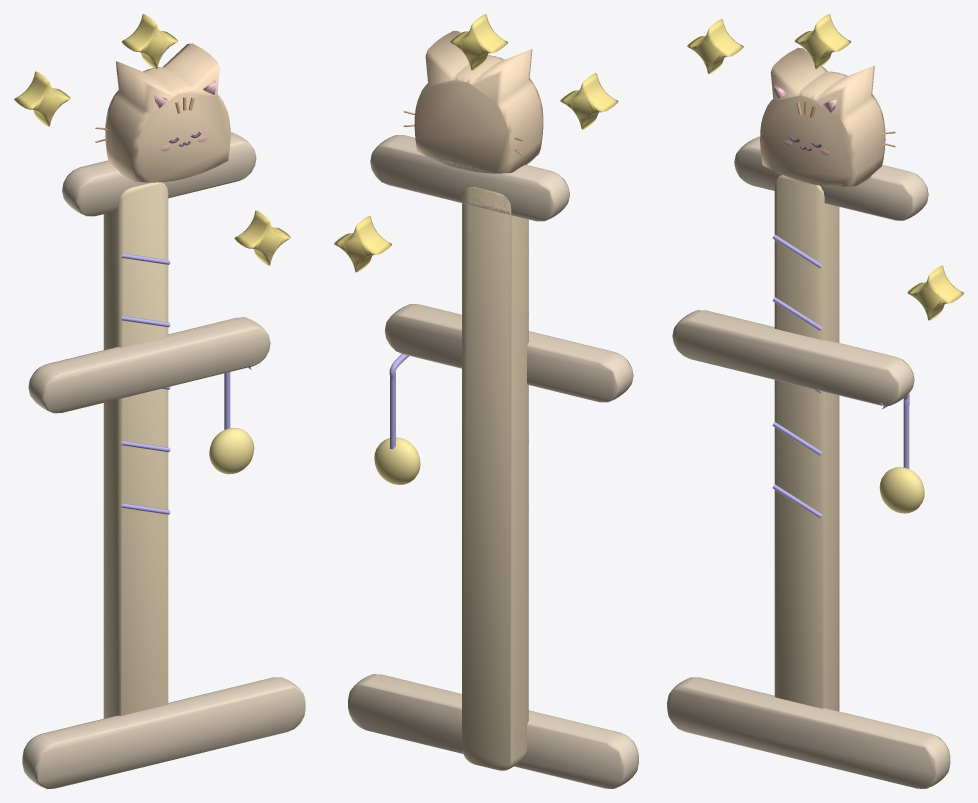
The model's file is decor_1_star.glb.
The picture shows the model from 3 angles, left to right: view 1: azimuth 30°, elevation 25°; view 2: azimuth 150°, elevation 25°; view 3: azimuth 330°, elevation 25°; orthographic projection. The views are drawn at different scales.
Visible parts, largest first — view 1: decor_1_star; view 2: decor_1_star; view 3: decor_1_star.
Boxes of the visible parts, x1,y1,x2,y2 form: decor_1_star: (14, 14, 305, 788); decor_1_star: (334, 14, 638, 788); decor_1_star: (667, 14, 963, 788).
Bounding box in the file's own units: 9.1 × 23.33 × 2.07.
